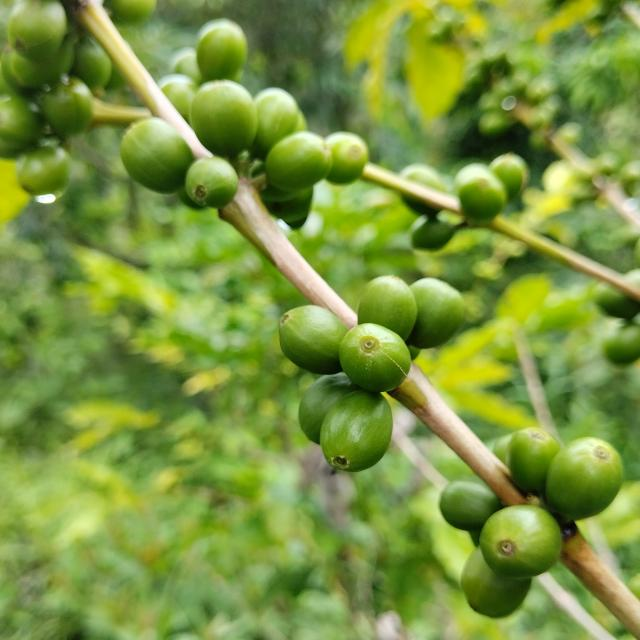green: (546, 438, 624, 521), (480, 506, 563, 579), (320, 390, 393, 472), (120, 116, 194, 193), (190, 79, 258, 157), (462, 548, 532, 619), (339, 323, 411, 392), (279, 305, 348, 375), (299, 372, 361, 445), (407, 278, 465, 349), (265, 131, 332, 191), (358, 275, 418, 341), (506, 428, 562, 494), (250, 87, 299, 158), (440, 481, 503, 532), (196, 18, 247, 80), (185, 156, 238, 208)
